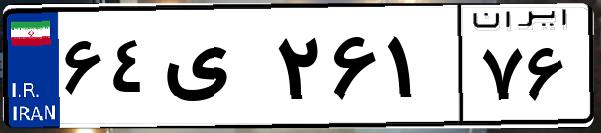1: (385, 28, 445, 110)
2: (270, 28, 330, 110)
4: (110, 28, 158, 98)
6: (330, 28, 385, 110), (57, 26, 110, 100), (525, 38, 570, 115)
7: (475, 38, 525, 113)
ی: (158, 20, 270, 120)
